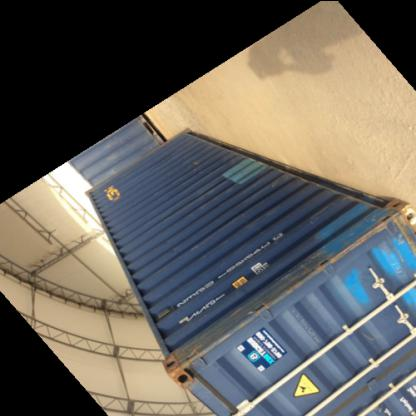Damage: (314, 202, 400, 274), (235, 264, 319, 327), (165, 314, 233, 390)
